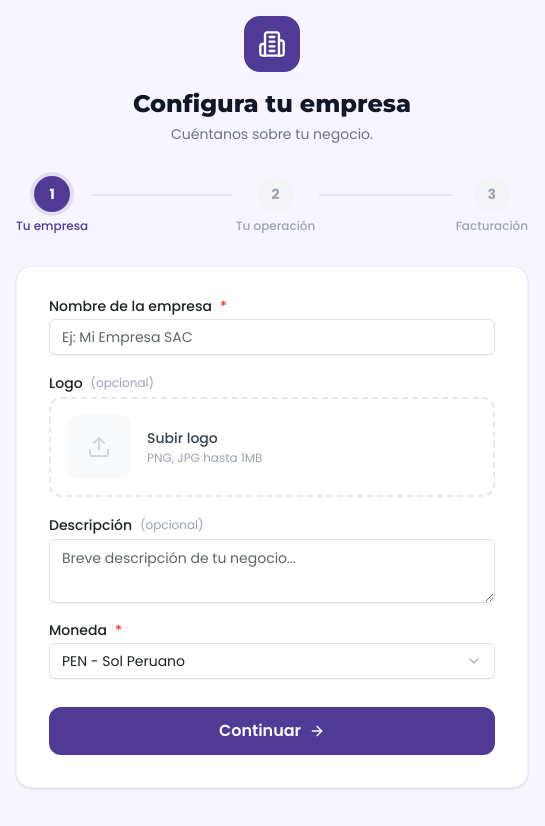
Test: NewCompanyPage (onboarding, FEAT-11) › no avanza al paso 2 sin nombre de empresa
Click the button "Continuar".
click(272, 731)  # box [49,707,495,755]
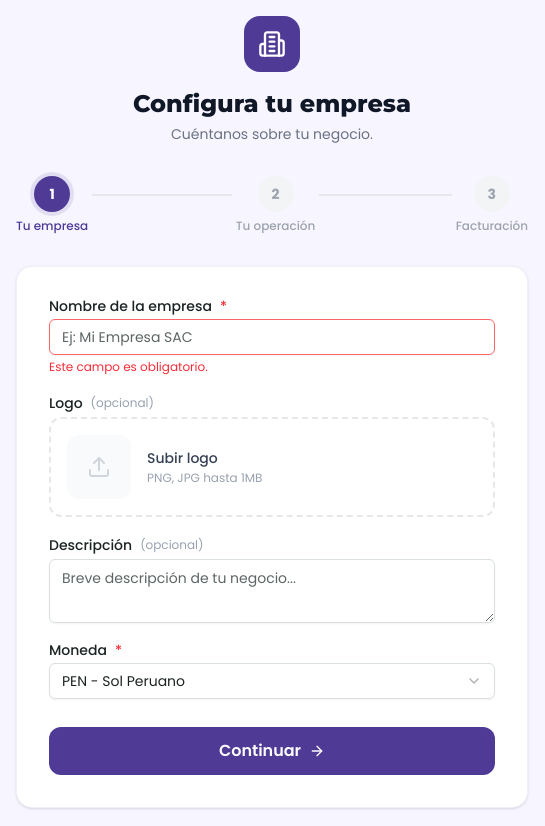
Result: the text "Este campo es obligatorio." is shown at [49,358,208,375]
